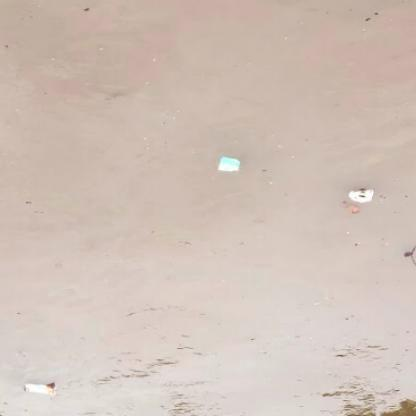Plastic: (18, 376, 58, 398)
Trash: (214, 155, 244, 176)
